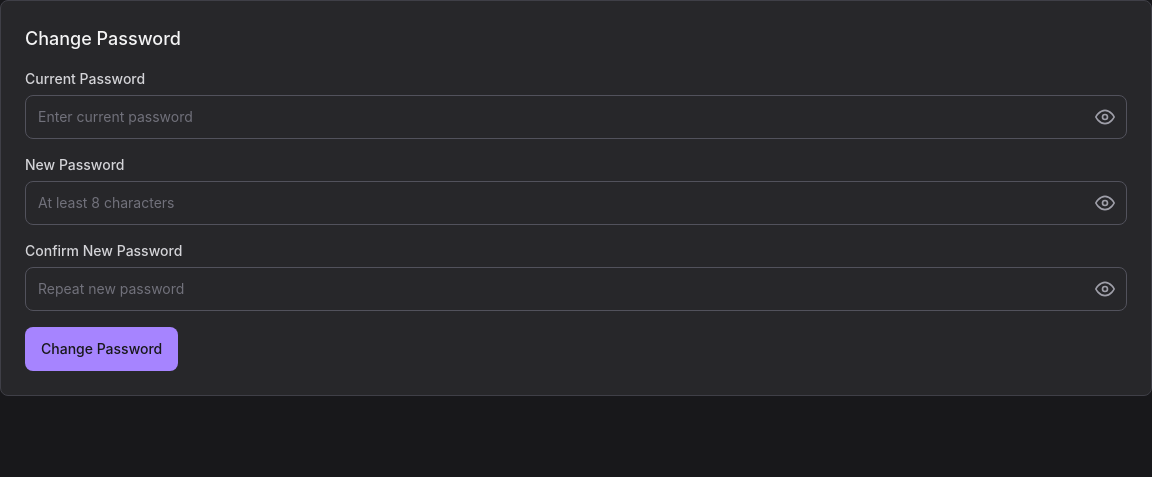
it: ChangePasswordForm › shows validation error when newPassword !== confirmPassword
The image size is (1152, 477).
Type "oldpassword1" into the password field labelled "Current Password" at (576,117), box x1=25 y1=95 x2=1127 y2=139
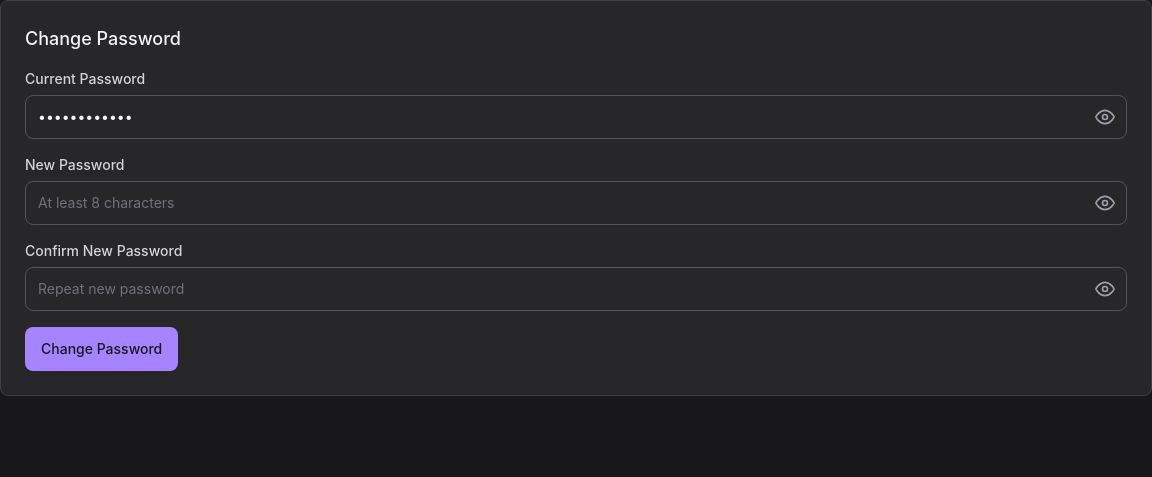
Type "newpassword1" into the password field labelled "New Password" at (576,203), box x1=25 y1=181 x2=1127 y2=225
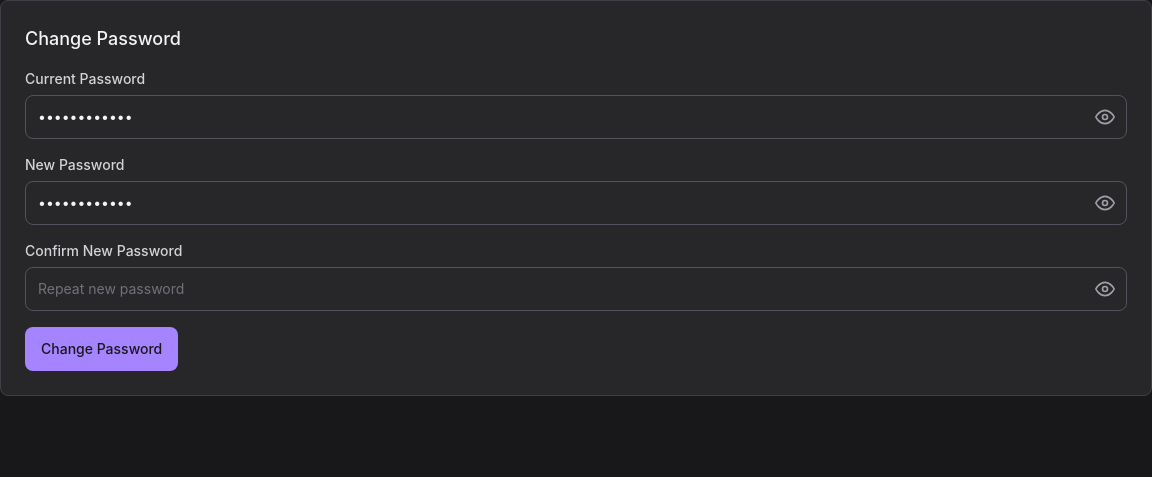
Type "differentpassword" into the password field labelled "Confirm New Password" at (576,289), box x1=25 y1=267 x2=1127 y2=311
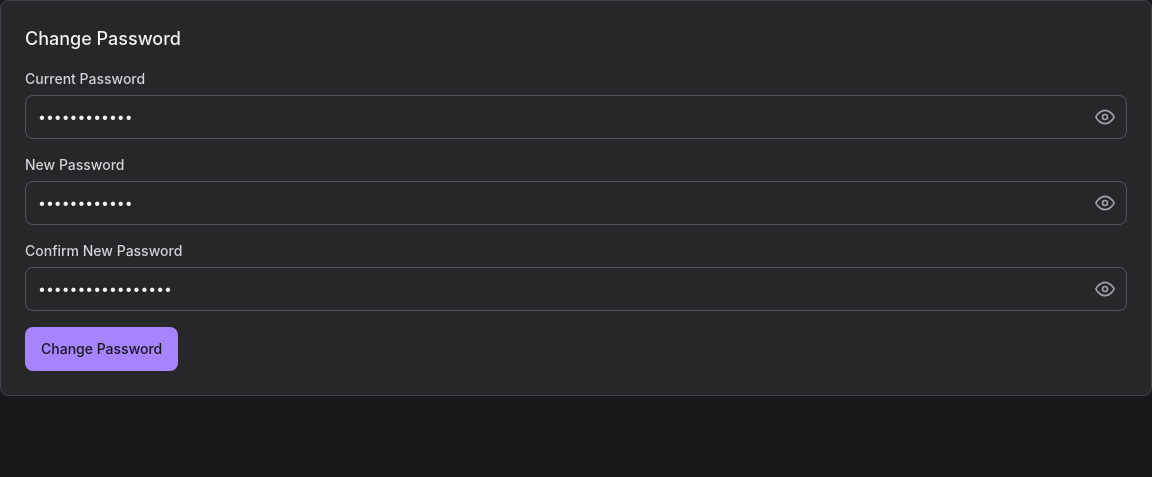
Submit the form
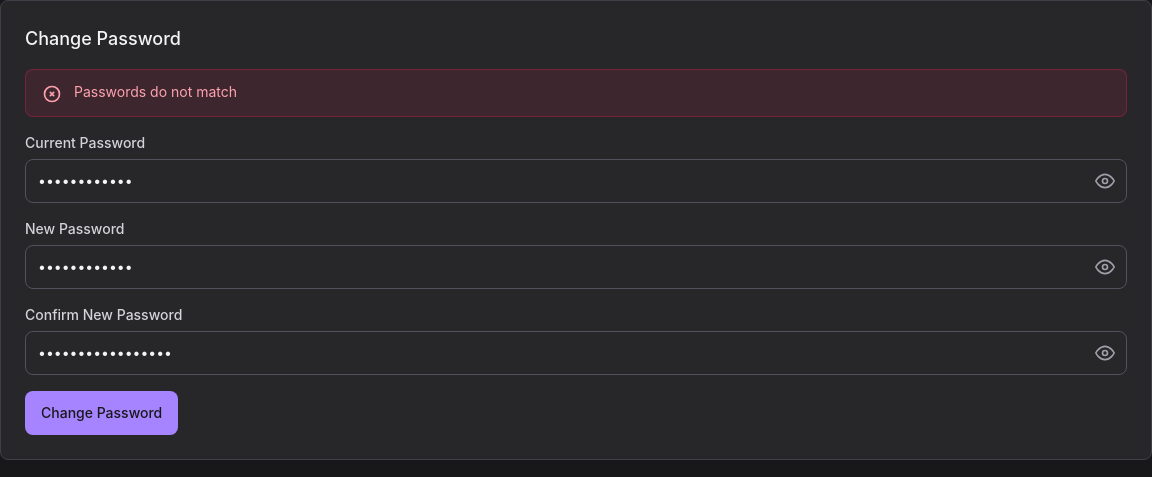
Result: the text "Passwords do not match" is shown at x1=74 y1=82 x2=237 y2=102
